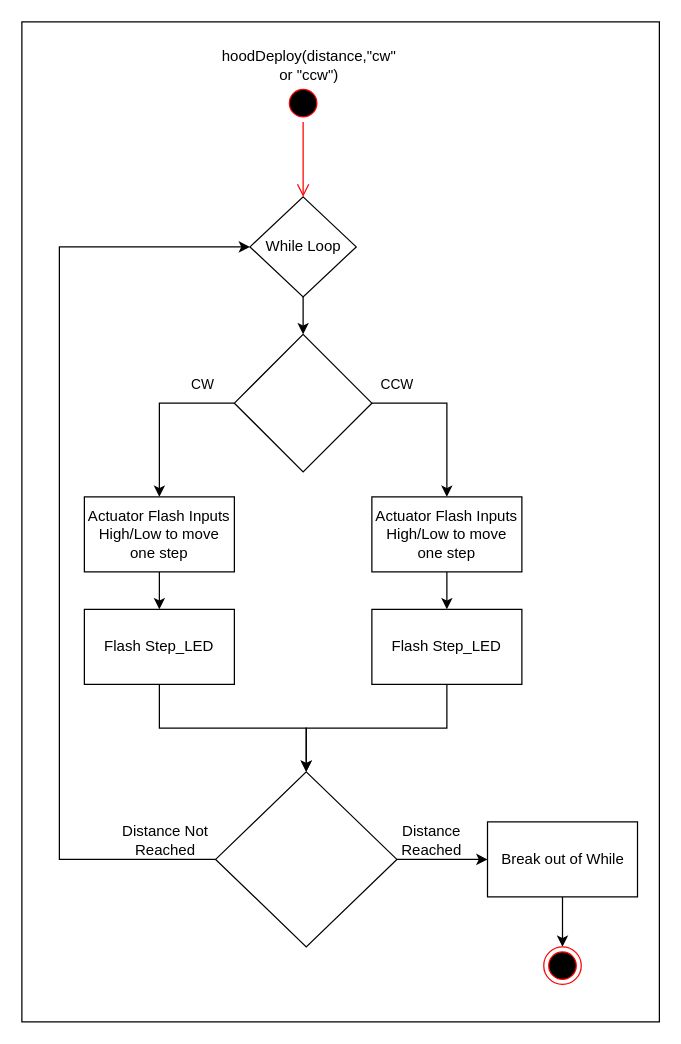
This 681x1044 diagram has some shape labels left out. The shapes that lost their labels are listed below. From the top down, each one's centre as x and y in pixels, then its label:
the point at 302,402: Switch: cw or ccw
the point at 305,859: Check if Stepper has reached target distance
